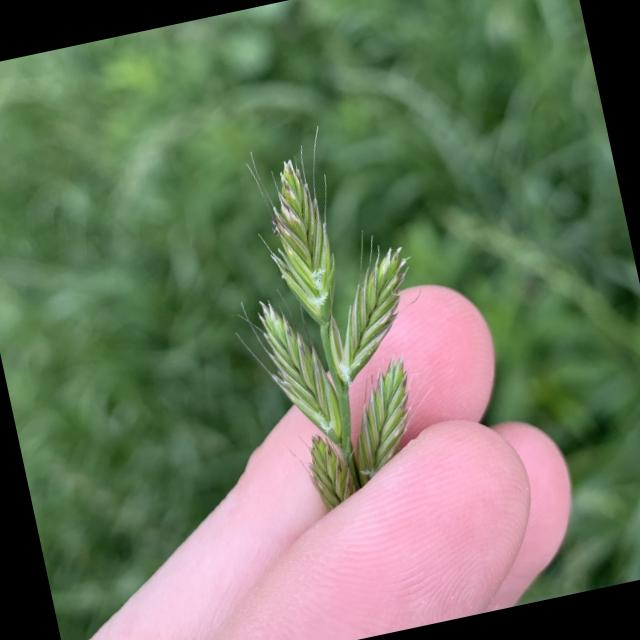Lolium: (194, 110, 462, 524)
